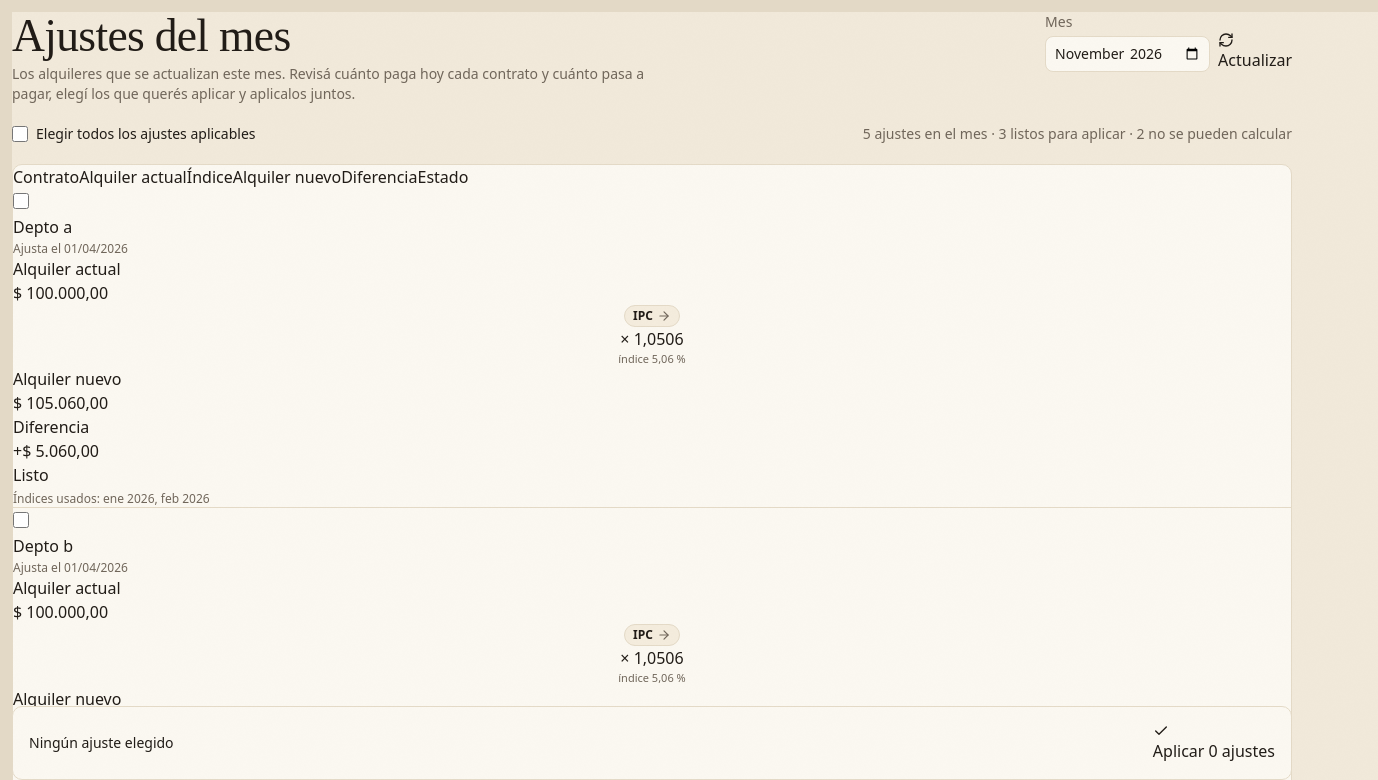
Test case: Ajustes del mes › cada fila compara el alquiler actual con el nuevo: coeficiente, diferencia y resumen
The width and height of the screenshot is (1378, 780).
What coordinates should you click on to do the following:
click the checkbox named "Elegir el ajuste de Depto a"
I would click on:
 (21, 201)
Its box is [13,193,29,209].
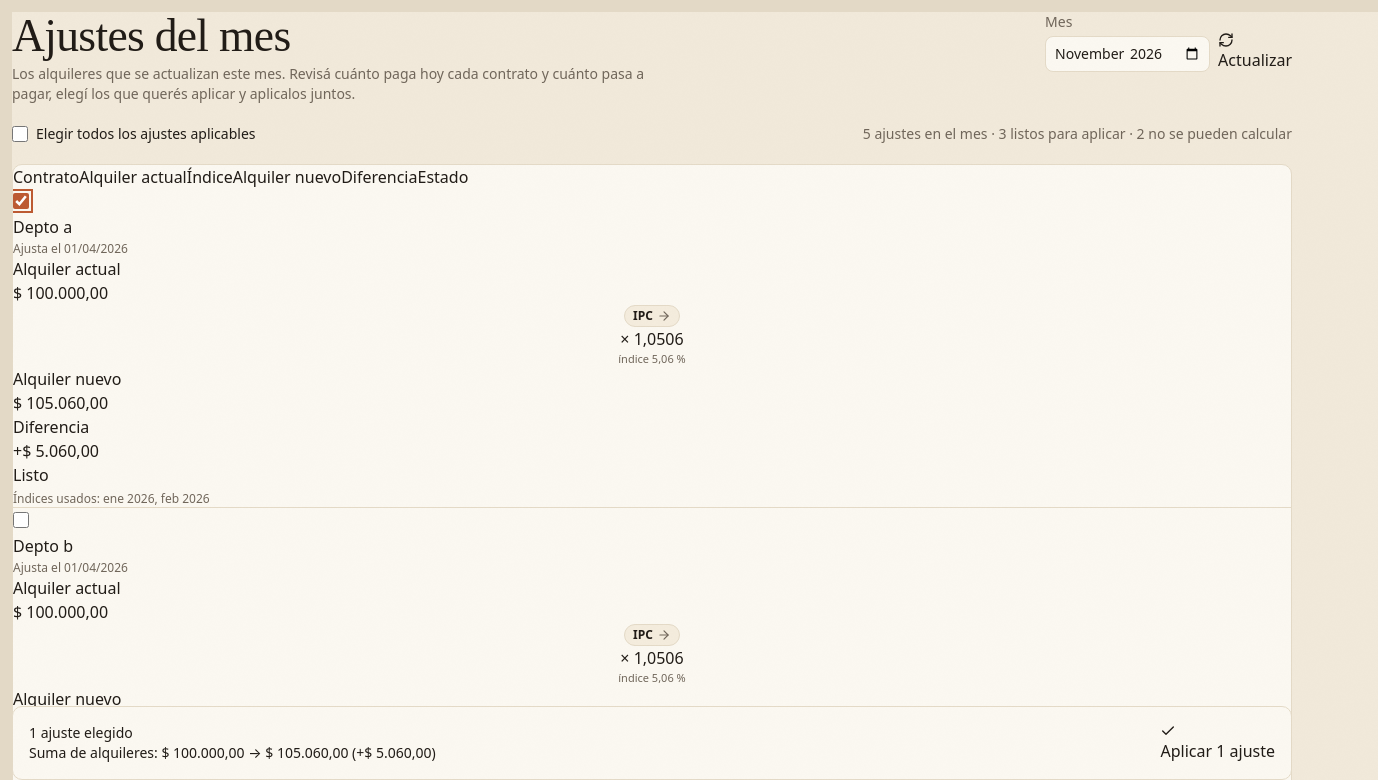
What coordinates should you click on to do the following:
click the checkbox named "Elegir el ajuste de Depto b"
I would click on:
 (21, 520)
Its box is [13,512,29,528].
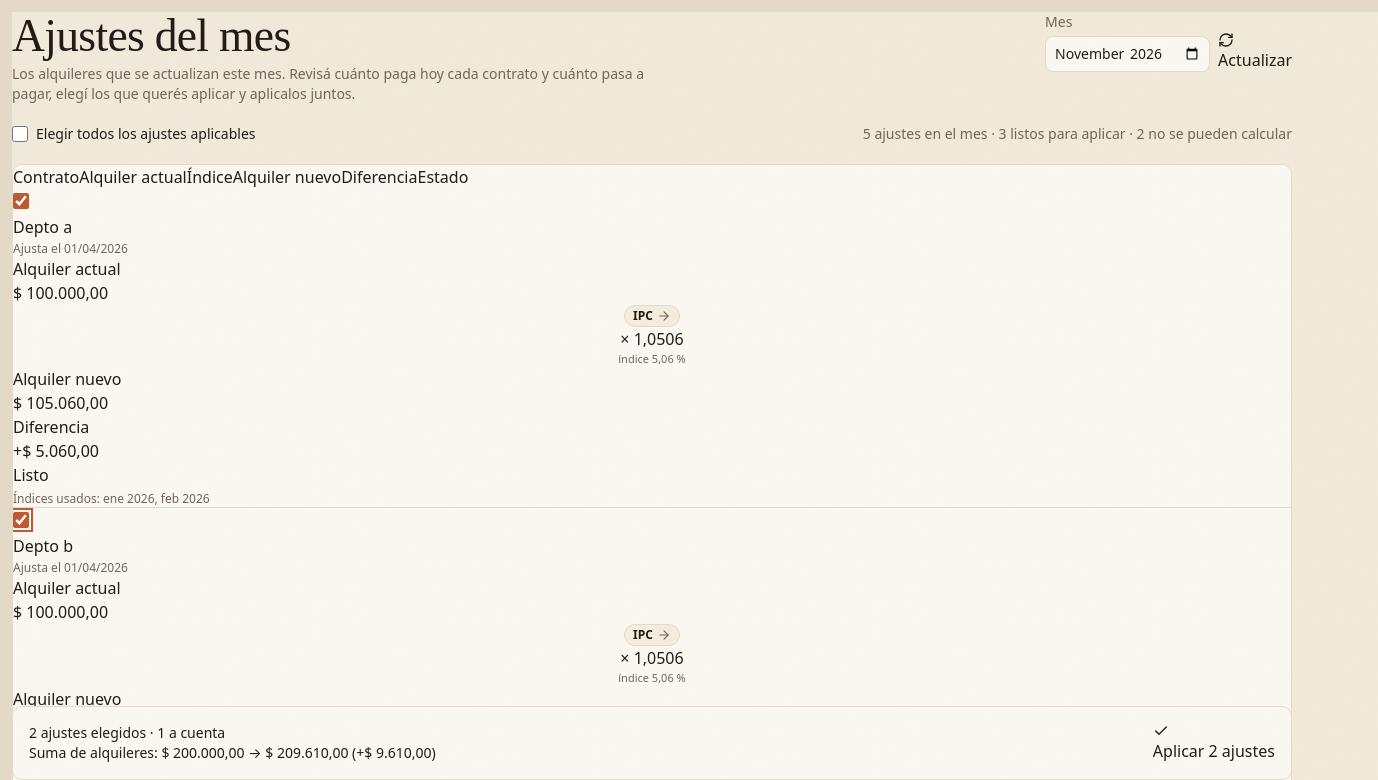
Expected: the text "Suma de alquileres: $ 200.000,00 → $ 209.610,00 (+$ 9.610,00)" is shown, [29,743,436,763]
